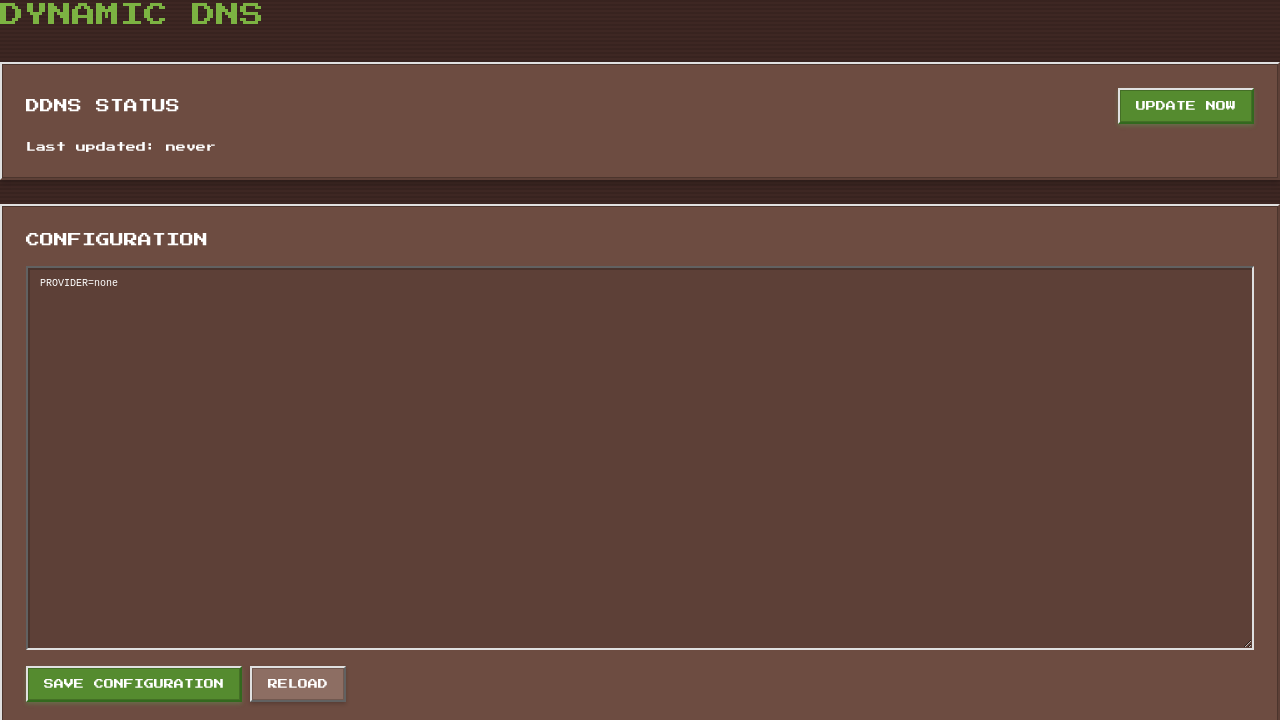
it: DynamicDNS › surfaces an update failure
Click the button "UPDATE NOW".
click(1186, 106)  # box [1118,88,1254,124]
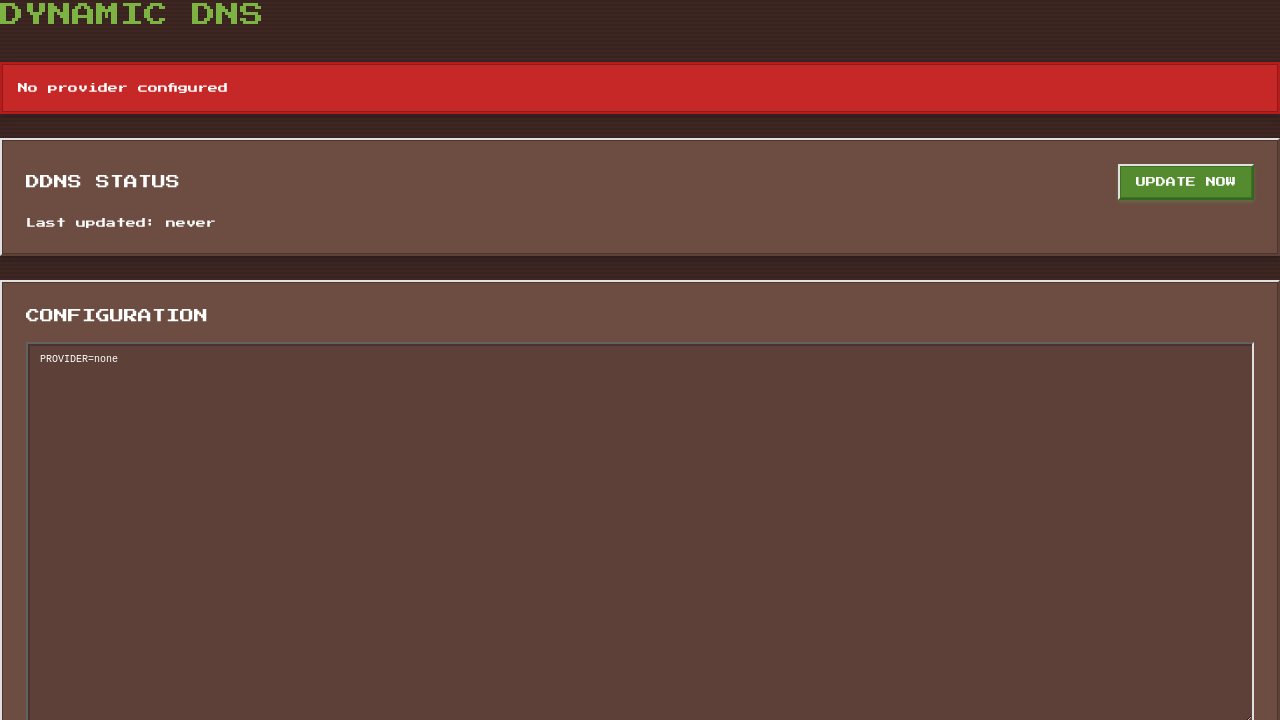
Check: the message reads "No provider configured", box [18,83,228,93]
